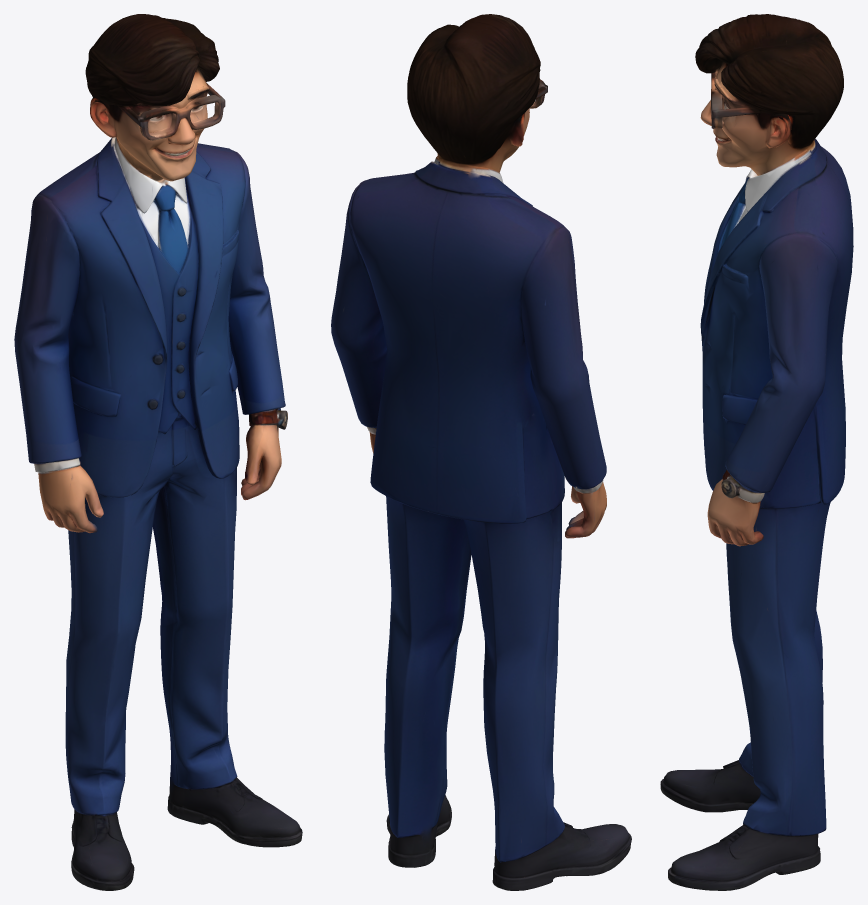
Rendered from chico1.optimized.glb.
3 views of the same model, side by side, from view 1: azimuth 30°, elevation 25°; view 2: azimuth 150°, elevation 25°; view 3: azimuth 270°, elevation 25° (orthographic). The views are drawn at different scales.
Parts seen in each view (by area): view 1: chico1; view 2: chico1; view 3: chico1.
Part boxes in pixels (bbox=[...]): chico1: bbox=[14, 14, 302, 890]; chico1: bbox=[331, 14, 631, 890]; chico1: bbox=[660, 14, 853, 890].
Bounding box in the file's own units: 0.3653 × 1.15 × 0.2458.
Materials: 1 (1 with a texture image).
